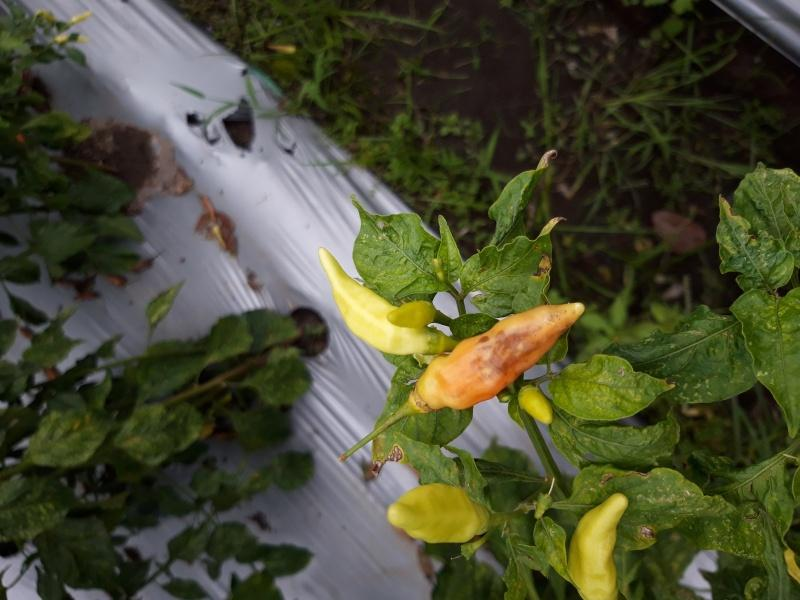cabai_normal: (319, 247, 432, 352), (565, 495, 628, 600), (385, 483, 484, 548), (517, 383, 552, 423), (393, 300, 434, 326)
lalat_buah: (415, 302, 584, 417)
